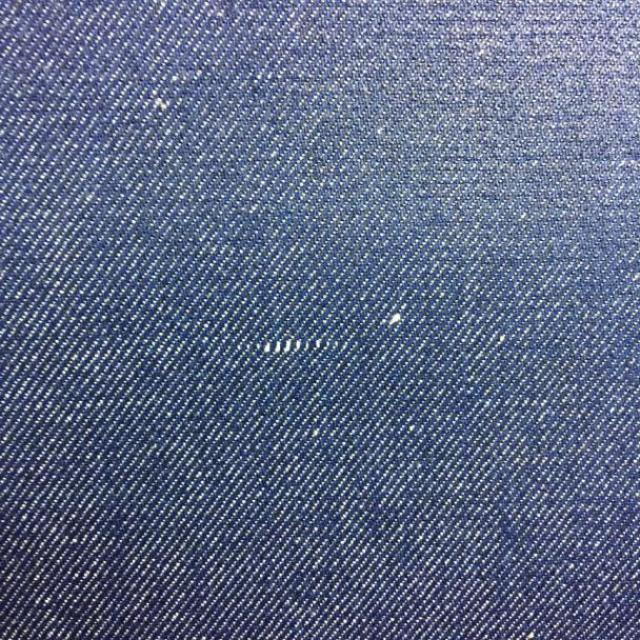Knot: (247, 338, 327, 356), (383, 313, 402, 328)
